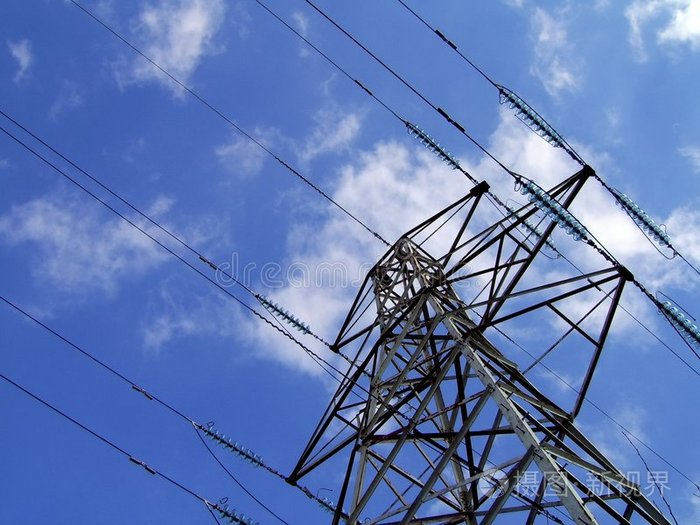insulator: (519, 180, 586, 239), (502, 92, 565, 147), (611, 193, 669, 246), (408, 124, 460, 170), (205, 428, 263, 469), (258, 295, 311, 336), (508, 207, 556, 249), (657, 299, 699, 347), (218, 505, 253, 525)
